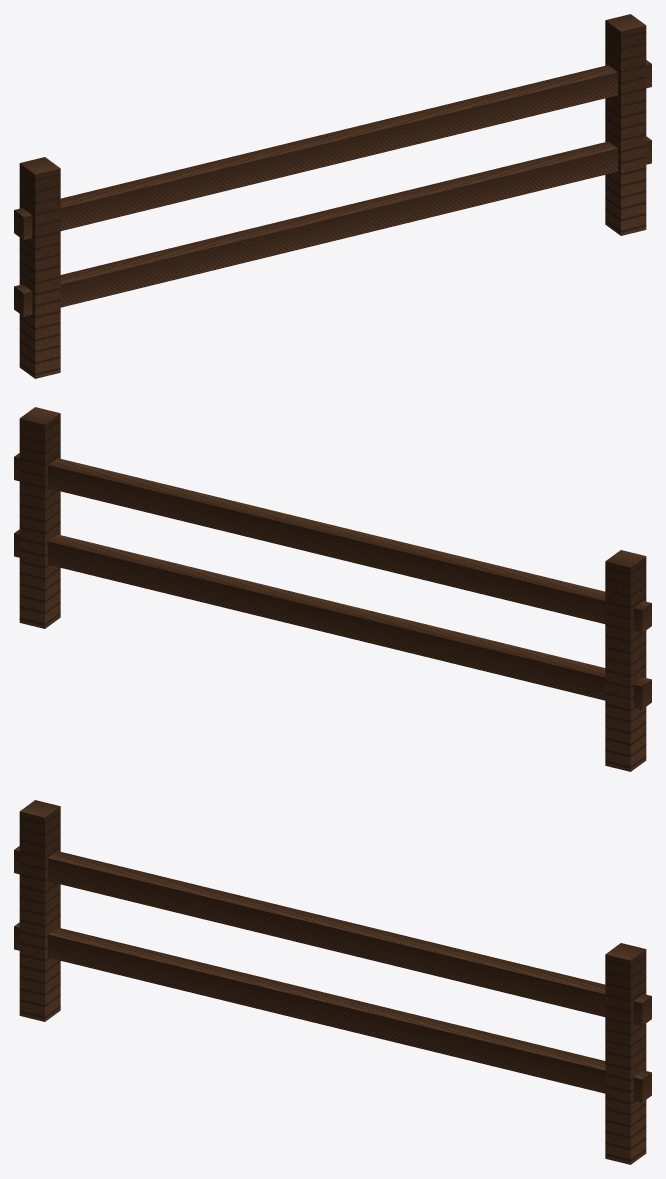
The model's file is fence_farm_wood.gltf.
3 views of the same model, one above another, from view 1: azimuth 30°, elevation 25°; view 2: azimuth 150°, elevation 25°; view 3: azimuth 330°, elevation 25° (orthographic).
Visible parts, largest first — view 1: fence_farm_wood; view 2: fence_farm_wood; view 3: fence_farm_wood.
Boxes of the visible parts, x1,y1,x2,y2 form: fence_farm_wood: (14,14,651,378); fence_farm_wood: (14,407,651,771); fence_farm_wood: (14,800,651,1164).
Size of the model in its own units: 3.7 by 1.15 by 0.16.
Materials: 1 (1 with a texture image).
